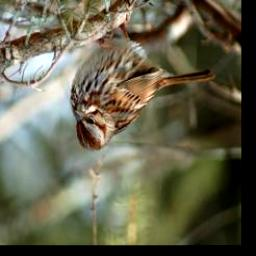Sparrow: (69, 11, 217, 156)
